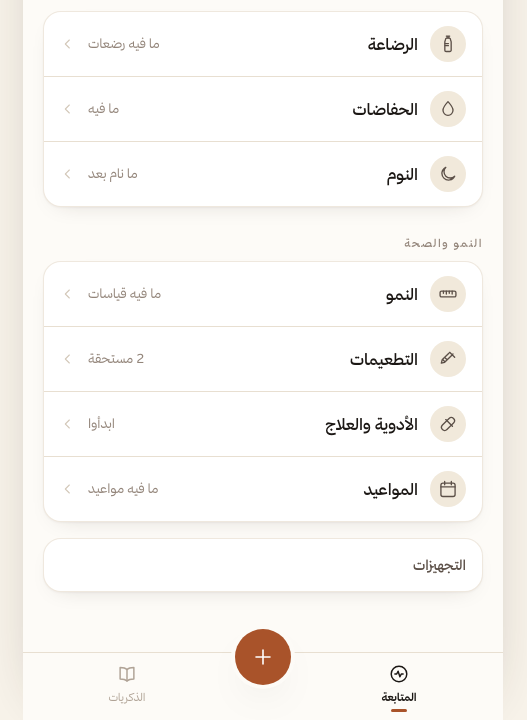
Test: التنقّل الرئيسي › يعرض ملخص المولود والتطعيمات عند فتح المتابعة مباشرة
The image size is (527, 720).
(page scrolled)
Check: the text "التطعيمات" is shown, box [350,349,418,369]
Click the heading "التجهيزات": (440, 565) [413,556,466,574]
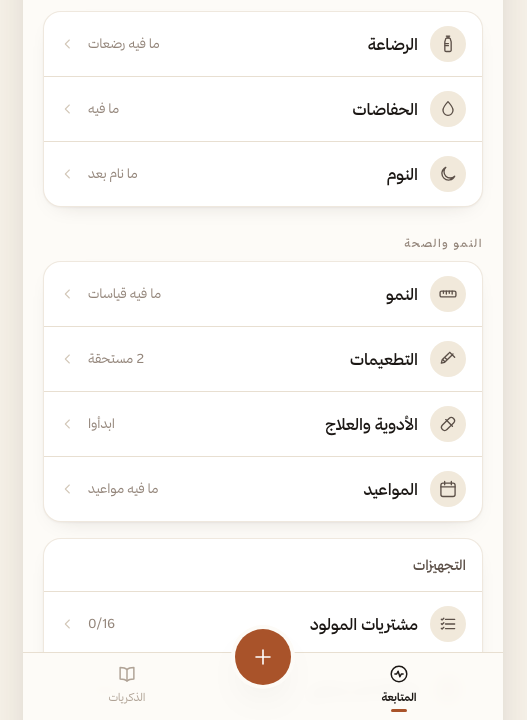
Check: the button "مشتريات المولود 0/16" is shown, box [44,592,482,657]
